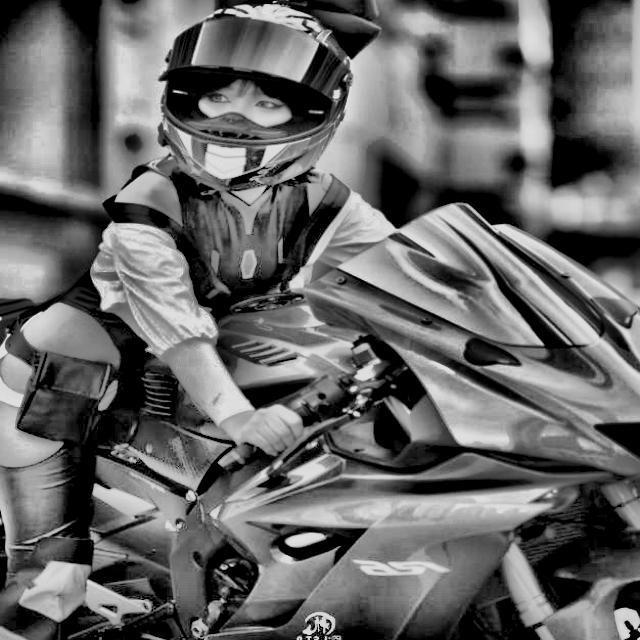Helmet: (148, 0, 363, 198)
